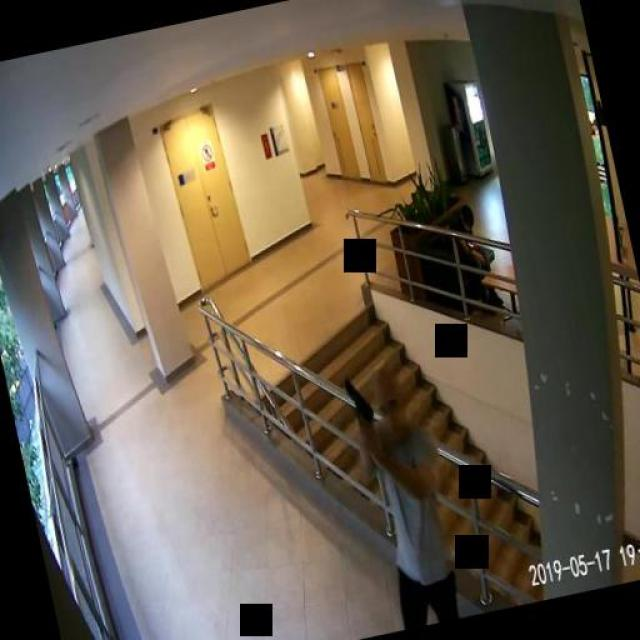gun: (342, 372, 376, 440)
